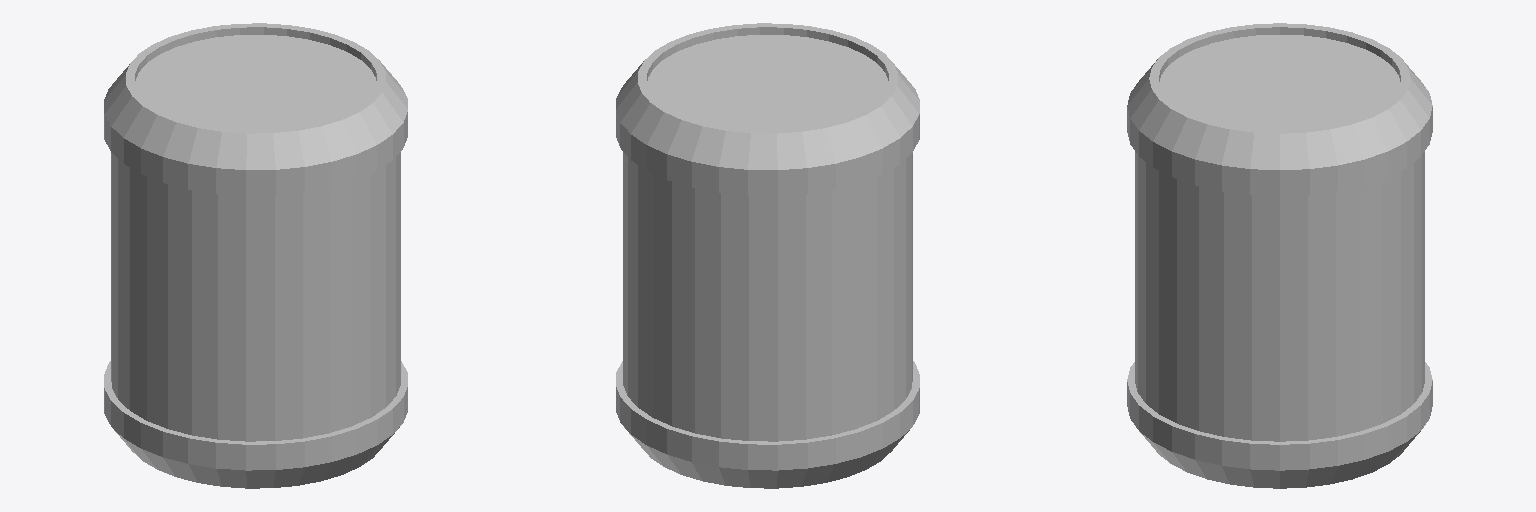
Rendered from obstacle_barrel_1.obj.
3 renders of one model, left to right at view 1: azimuth 30°, elevation 25°; view 2: azimuth 150°, elevation 25°; view 3: azimuth 270°, elevation 25°, orthographic.
Size of the model in its own units: 0.2172 by 0.2785 by 0.2172.